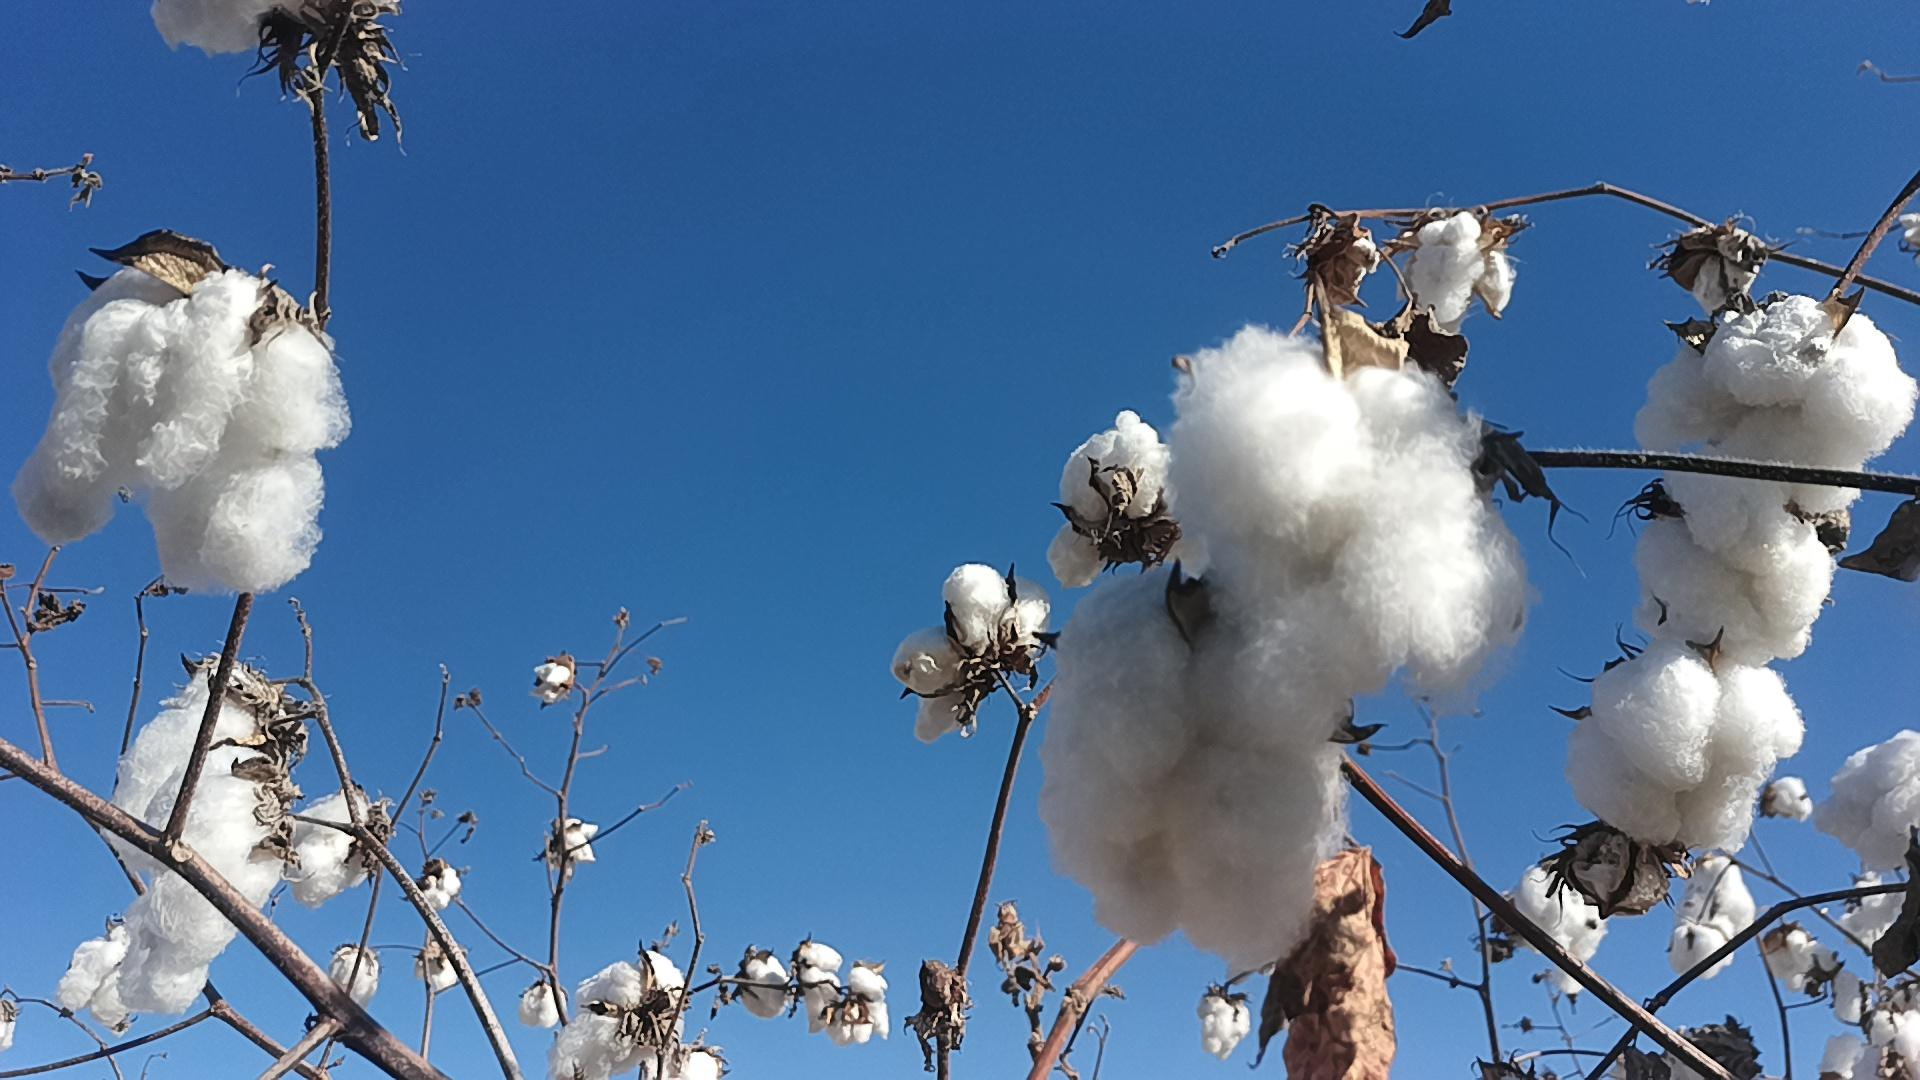cotton_ready: (1163, 326, 1528, 696), (1035, 571, 1348, 965), (16, 268, 353, 600), (1634, 295, 1920, 549), (108, 673, 295, 1019), (1561, 644, 1808, 853), (1623, 505, 1838, 666), (152, 745, 287, 965), (893, 564, 1052, 748), (1050, 410, 1211, 585), (551, 956, 688, 1080), (1804, 731, 1920, 869), (156, 0, 406, 58), (1403, 218, 1518, 331), (290, 795, 388, 909), (1514, 865, 1606, 968), (55, 926, 133, 1027), (1853, 1007, 1920, 1080), (1685, 247, 1760, 310), (644, 1055, 720, 1080)
